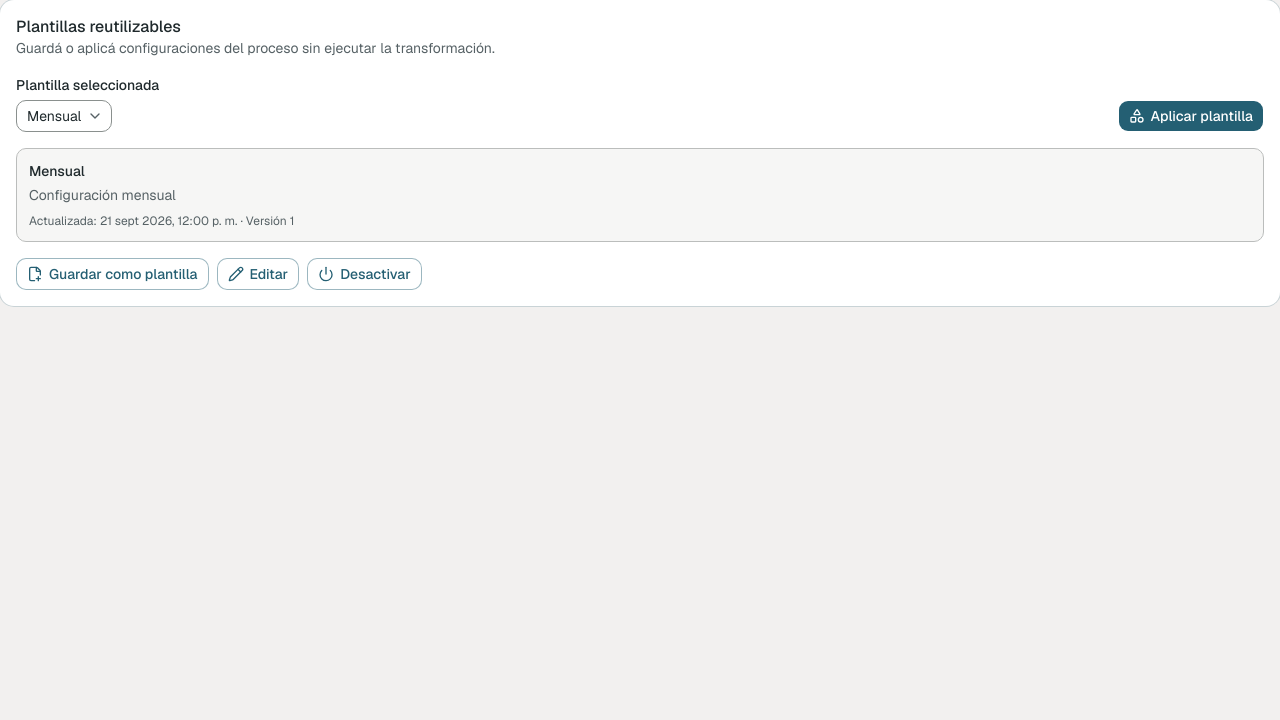
it: TransformationTemplatesPanel › muestra un error controlado sin aplicar parcialmente
Click the button "Aplicar plantilla".
click(1191, 116)  # box [1118,100,1264,132]
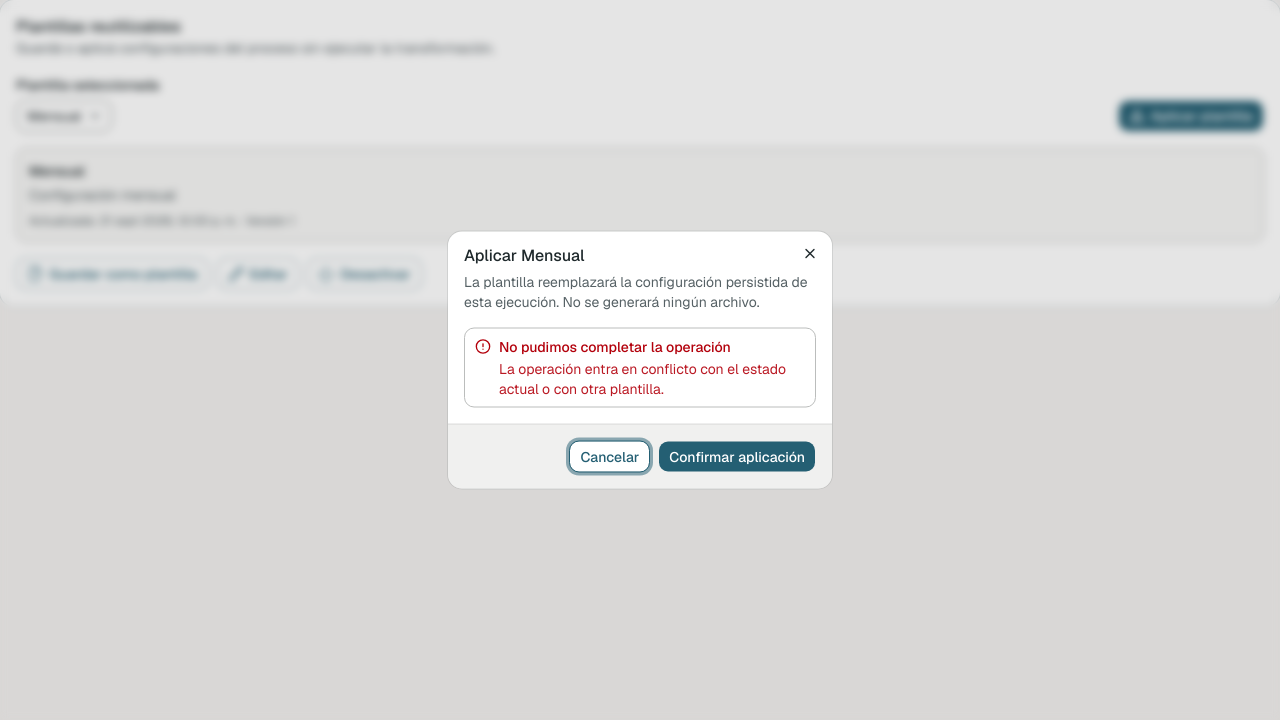
Expected: the text "entra en conflicto con el estado actual" is shown, [499,360,786,398]
